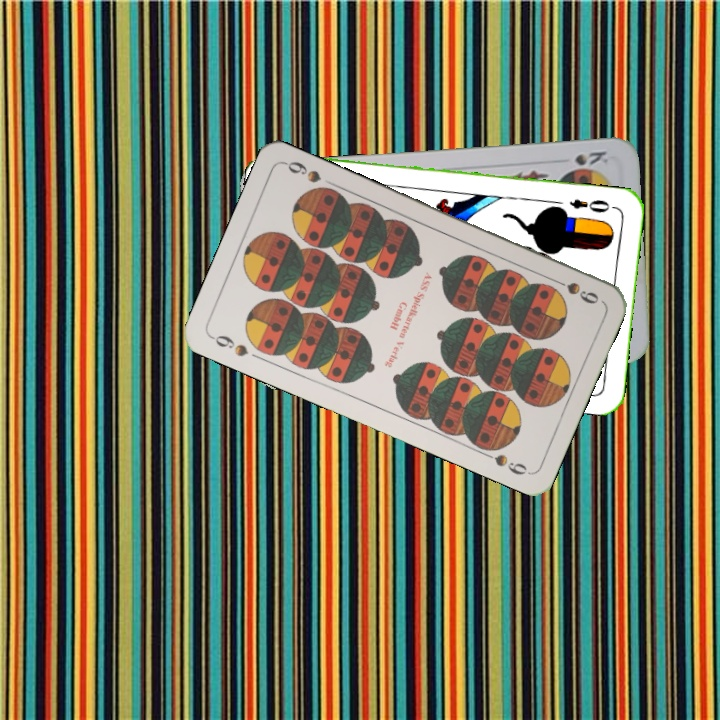EO: (565, 194, 618, 216)
S9: (547, 274, 602, 307), (207, 330, 251, 359)
SK: (570, 147, 612, 168)
